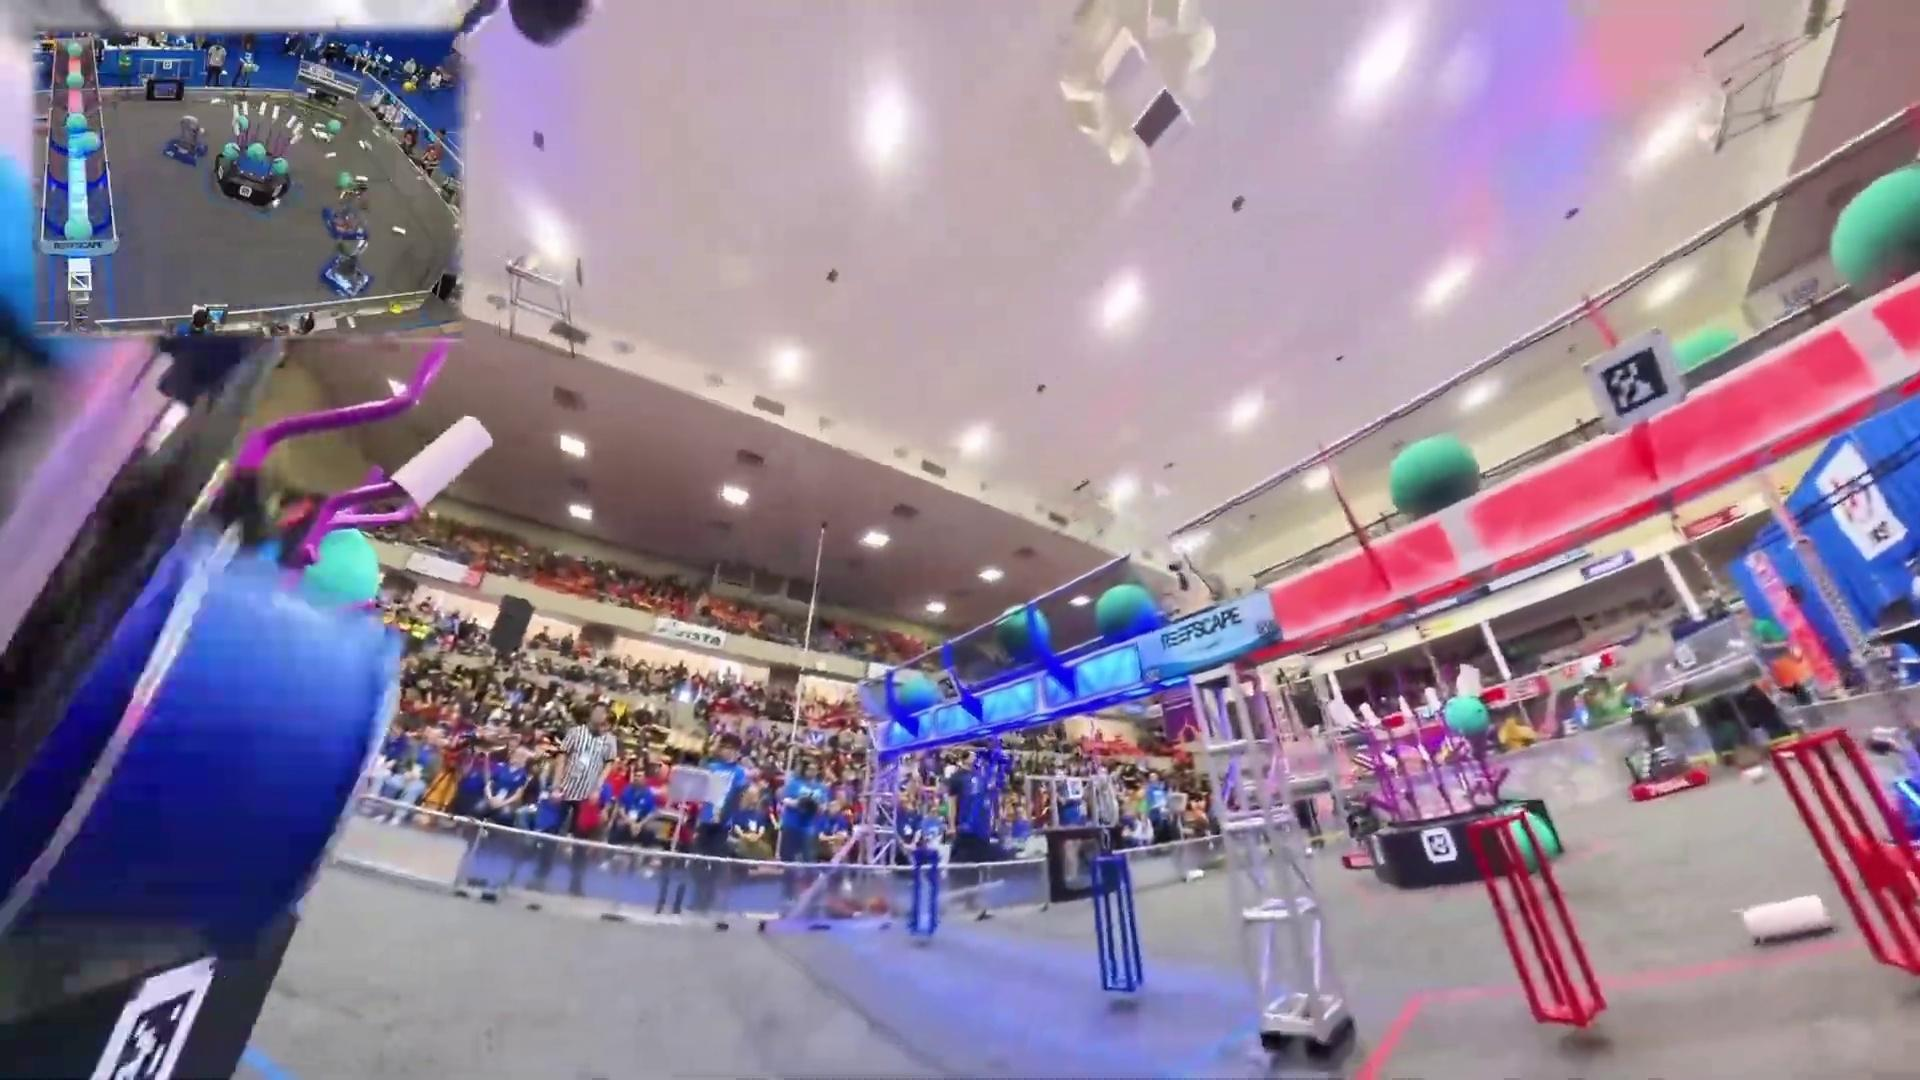robot: (1623, 712, 1708, 800), (320, 231, 376, 297), (324, 173, 378, 237), (164, 109, 211, 164), (1341, 839, 1379, 872)
